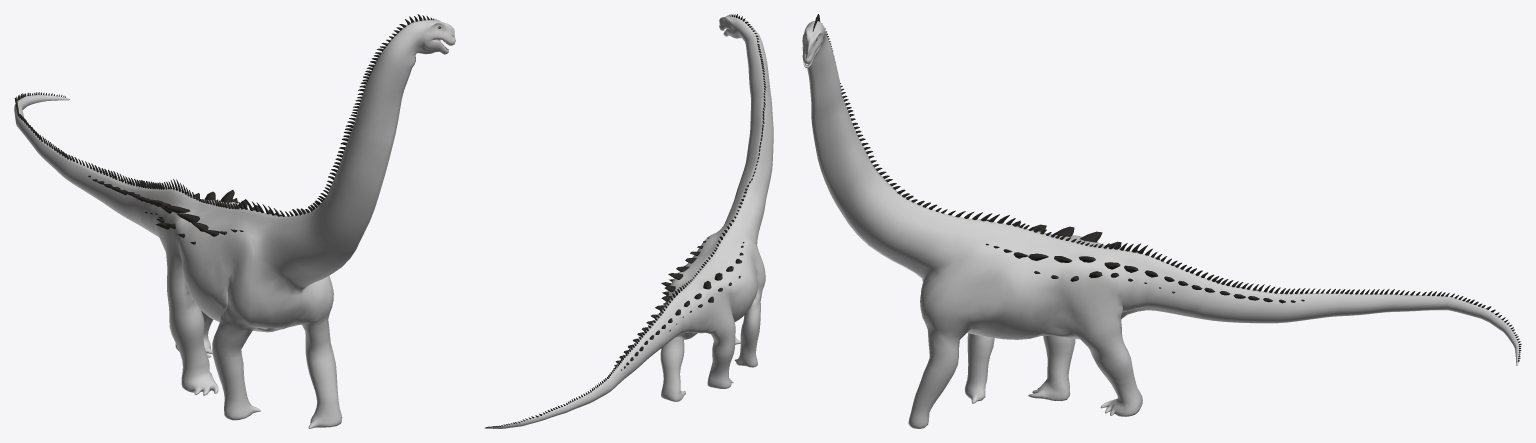
Rendered from argentinosaurus.gltf.
3 renders of one model, left to right at view 1: azimuth 30°, elevation 25°; view 2: azimuth 150°, elevation 25°; view 3: azimuth 270°, elevation 25°, orthographic. The views are drawn at different scales.
Visible parts, largest first — view 1: ZBrush_defualt_group_0, Cube.001_0, Cube.002_0; view 2: ZBrush_defualt_group_0, Cube.002_0, Cube.001_0; view 3: ZBrush_defualt_group_0, Cube.001_0, Cube.002_0.
Part boxes in pixels (box(x1,y1,x2,y2)): ZBrush_defualt_group_0: box(14, 18, 455, 428); Cube.001_0: box(14, 14, 452, 216); Cube.002_0: box(88, 175, 282, 244); ZBrush_defualt_group_0: box(484, 14, 773, 428); Cube.002_0: box(613, 237, 744, 370); Cube.001_0: box(485, 14, 766, 427); ZBrush_defualt_group_0: box(802, 21, 1519, 428); Cube.001_0: box(805, 14, 1521, 362); Cube.002_0: box(979, 219, 1304, 303).
Bounding box in the file's own units: 0.0143 × 0.0385 × 0.059.
